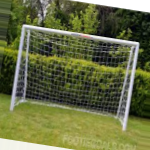goals: (9, 22, 139, 131)
